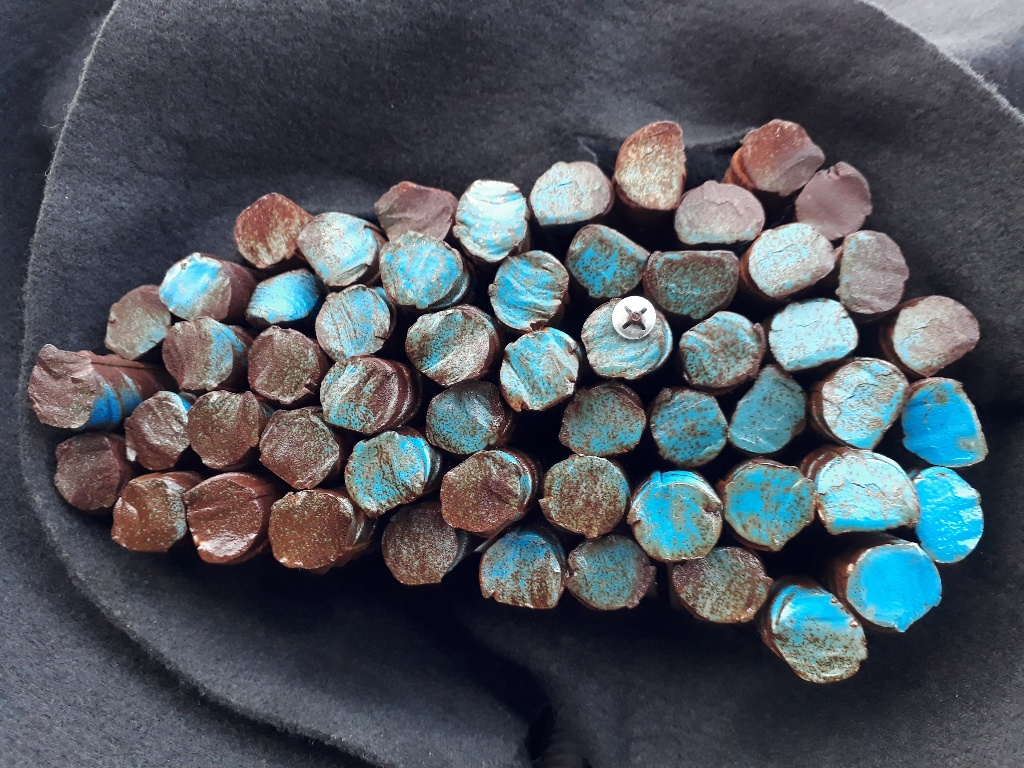dipstick: (850, 545, 943, 632), (818, 454, 917, 532), (903, 378, 987, 467), (672, 550, 772, 624), (781, 595, 864, 683), (727, 465, 815, 545), (823, 359, 902, 445), (915, 466, 984, 562), (584, 300, 670, 377), (896, 295, 978, 375), (545, 457, 628, 535), (636, 482, 722, 557), (480, 532, 563, 609), (186, 477, 262, 560), (730, 372, 806, 454), (568, 537, 653, 610), (406, 310, 488, 384), (271, 492, 351, 566), (264, 409, 337, 490), (443, 456, 520, 532), (561, 385, 646, 453), (488, 254, 568, 326), (503, 329, 574, 410), (751, 226, 834, 295), (112, 479, 188, 554), (839, 230, 907, 313), (771, 304, 855, 371), (300, 211, 375, 286), (681, 313, 759, 385), (350, 436, 429, 507), (29, 345, 98, 426), (383, 508, 455, 585), (123, 391, 190, 473), (381, 235, 461, 303), (649, 252, 738, 313), (321, 358, 396, 430), (743, 120, 819, 191), (799, 161, 870, 237), (458, 177, 527, 255), (678, 185, 764, 246), (621, 120, 681, 207), (192, 391, 261, 466), (653, 395, 726, 464), (571, 229, 644, 297), (531, 163, 609, 226), (318, 287, 389, 356), (164, 319, 231, 391), (162, 254, 230, 323), (429, 389, 502, 451), (377, 183, 454, 241), (252, 330, 314, 400), (56, 437, 118, 507), (239, 191, 300, 261), (107, 286, 167, 357), (246, 271, 318, 323)
